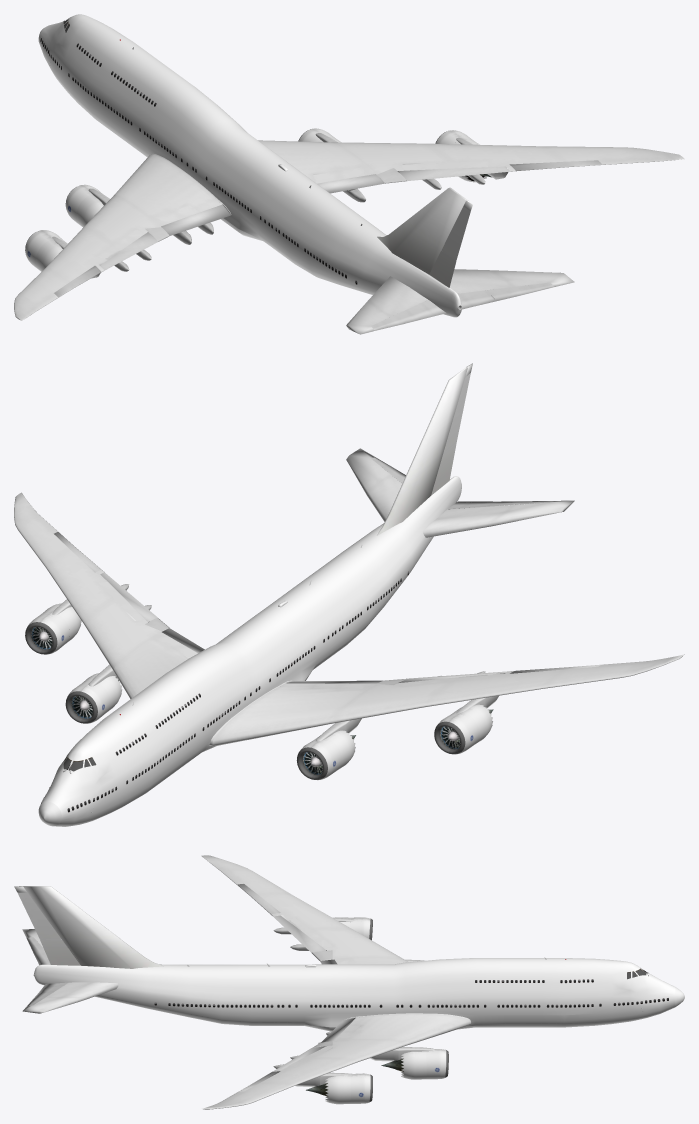
3 renders of one model, top to bottom at view 1: azimuth 30°, elevation 25°; view 2: azimuth 150°, elevation 25°; view 3: azimuth 270°, elevation 25°, orthographic. The views are drawn at different scales.
Parts seen in each view (by area): view 1: rootNode, elevator_left; view 2: rootNode, elevator_left; view 3: rootNode, elevator_left.
Boxes of the visible parts, bbox=[...] form: rootNode: bbox=[14, 14, 684, 320]; elevator_left: bbox=[346, 269, 574, 334]; rootNode: bbox=[14, 363, 684, 826]; elevator_left: bbox=[346, 448, 574, 537]; rootNode: bbox=[14, 855, 684, 1109]; elevator_left: bbox=[22, 929, 118, 1013].
Size of the model in its own units: 68.4 by 18.57 by 76.55.
9 materials, 9 textured.
